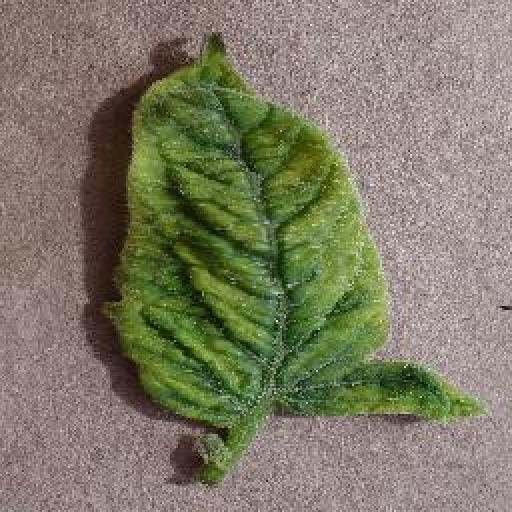disease_tomato: (104, 28, 490, 435)
